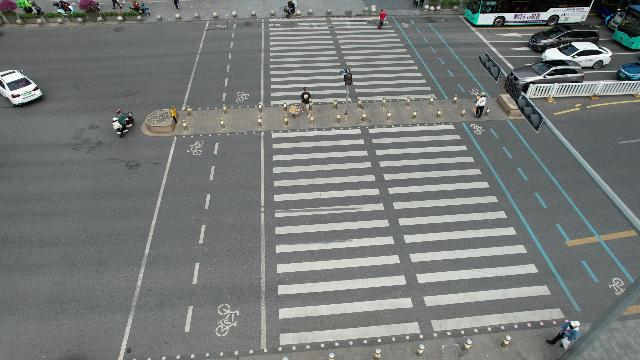non-motor-vehicle: (112, 106, 136, 140), (16, 0, 50, 16), (52, 1, 80, 16), (130, 2, 152, 17), (376, 8, 389, 30), (284, 0, 296, 20)
person: (546, 317, 578, 349), (291, 85, 315, 119), (473, 89, 487, 118)
